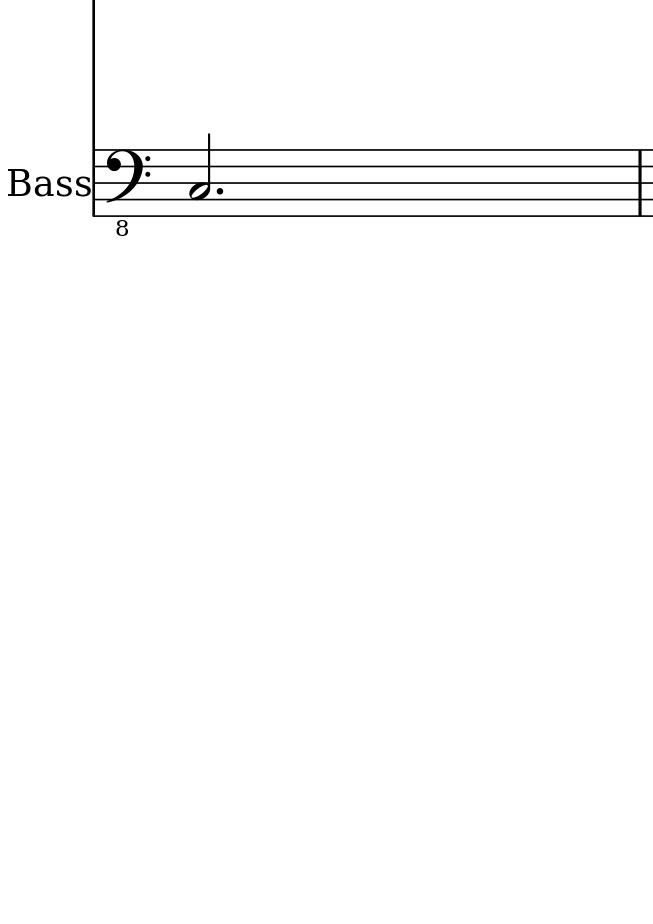2_3: (188, 133, 211, 219)
Bass: (5, 167, 91, 199)
Lower_Fclef: (103, 149, 150, 238)
Single_barline: (633, 149, 648, 217), (89, 149, 102, 217)
dot: (214, 185, 224, 196)
